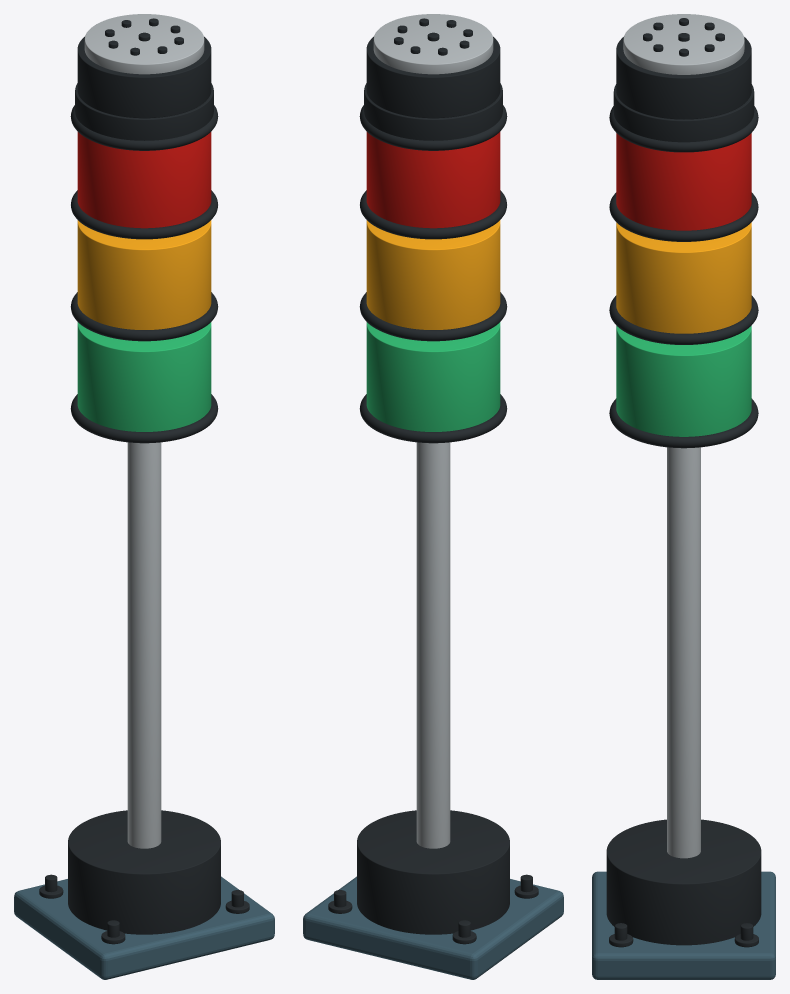
Rendered from stack_light_3_tier.glb.
3 views of the same model, side by side, from view 1: azimuth 30°, elevation 25°; view 2: azimuth 150°, elevation 25°; view 3: azimuth 270°, elevation 25° (orthographic).
Parts seen in each view (by area): view 1: BASE_plinth, POLE, LENS_amber, LENS_green, BASE_foot, LENS_red, BUZZER_housing, BUZZER_top_grille, CAP, BEZEL_red_lower, BEZEL_amber_lower, BEZEL_green_lower (+1 smaller); view 2: BASE_plinth, POLE, LENS_amber, LENS_green, BASE_foot, LENS_red, BUZZER_housing, BUZZER_top_grille, CAP, BEZEL_red_lower, BEZEL_amber_lower, BEZEL_green_lower (+1 smaller); view 3: BASE_plinth, POLE, LENS_green, LENS_amber, LENS_red, BASE_foot, BUZZER_housing, BUZZER_top_grille, CAP, BEZEL_amber_lower, BEZEL_red_lower, BEZEL_green_lower (+1 smaller).
Part boxes in pixels (x1,y1,x2,y2): BASE_plinth: [68, 810, 220, 934]; POLE: [127, 442, 161, 848]; LENS_amber: [77, 220, 211, 329]; LENS_green: [77, 322, 211, 431]; BASE_foot: [14, 876, 274, 979]; LENS_red: [77, 132, 211, 228]; BUZZER_housing: [77, 36, 211, 118]; BUZZER_top_grille: [84, 14, 204, 74]; CAP: [75, 83, 213, 140]; BEZEL_red_lower: [71, 190, 217, 239]; BEZEL_amber_lower: [70, 292, 218, 341]; BEZEL_green_lower: [70, 394, 218, 443]; BASE_plinth: [357, 810, 509, 934]; POLE: [416, 442, 450, 848]; LENS_amber: [366, 220, 500, 329]; LENS_green: [366, 322, 500, 431]; BASE_foot: [303, 876, 563, 979]; LENS_red: [366, 132, 500, 228]; BUZZER_housing: [366, 36, 500, 118]; BUZZER_top_grille: [373, 14, 493, 74]; CAP: [364, 83, 502, 140]; BEZEL_red_lower: [360, 190, 506, 239]; BEZEL_amber_lower: [359, 292, 507, 341]; BEZEL_green_lower: [359, 394, 507, 443]; BASE_plinth: [606, 819, 761, 945]; POLE: [667, 447, 700, 858]; LENS_green: [616, 326, 751, 436]; LENS_amber: [616, 222, 751, 333]; LENS_red: [616, 133, 751, 230]; BASE_foot: [592, 871, 775, 979]; BUZZER_housing: [616, 37, 751, 119]; BUZZER_top_grille: [623, 14, 744, 74]; CAP: [613, 84, 754, 142]; BEZEL_amber_lower: [609, 295, 758, 344]; BEZEL_red_lower: [609, 192, 758, 241]; BEZEL_green_lower: [609, 398, 758, 448].
Bounding box in the file's own units: 0.42 × 2.06 × 0.38.
